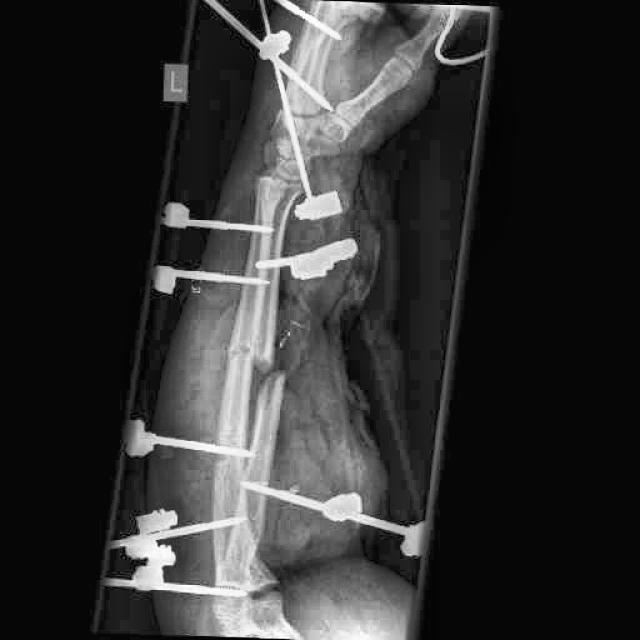forearm fracture: (191, 318, 314, 435)
